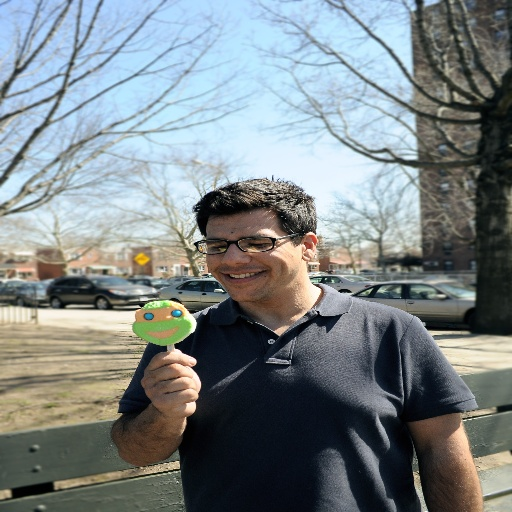hand: (121, 332, 208, 456)
